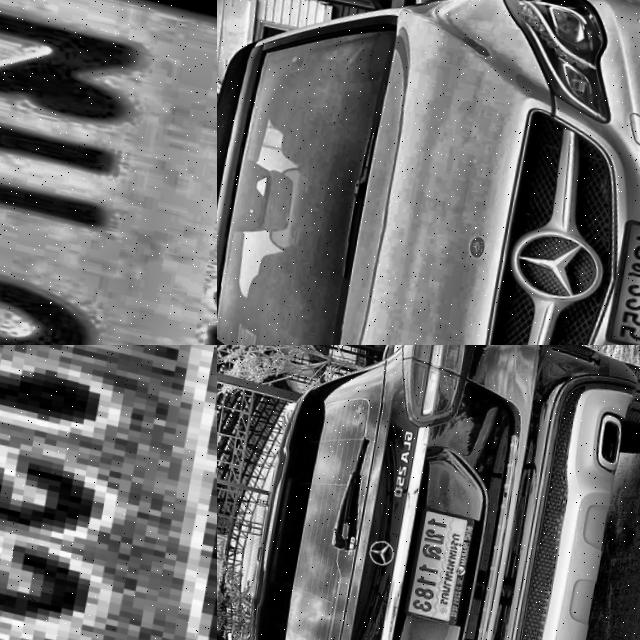license-plate: (0, 0, 217, 345), (0, 345, 217, 640), (401, 496, 486, 621), (593, 193, 640, 345)
